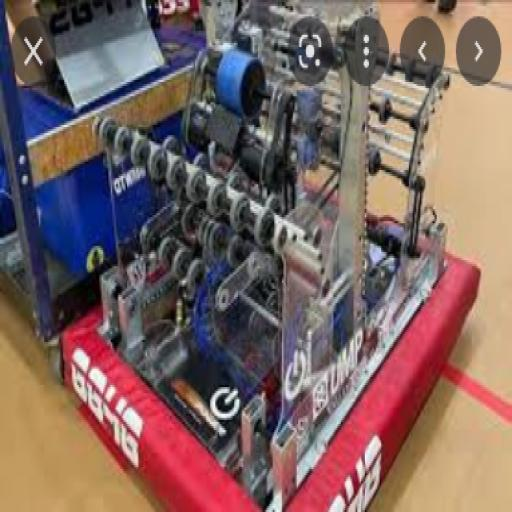robot: (61, 2, 484, 512)
